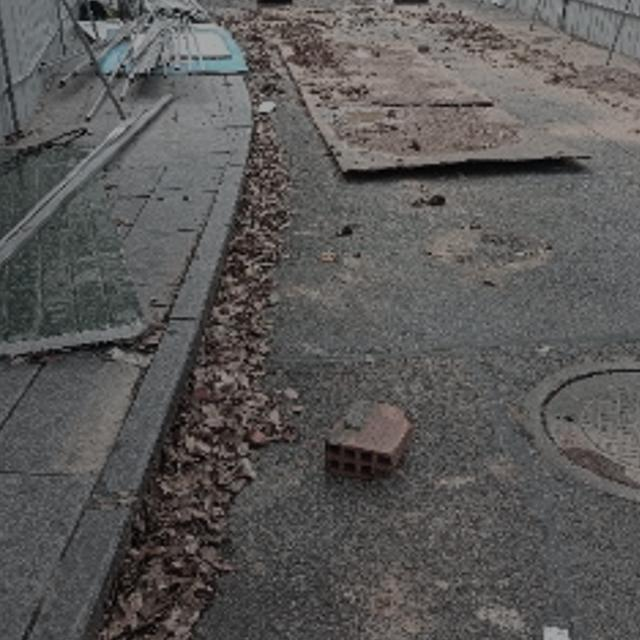good: (525, 359, 640, 504)
